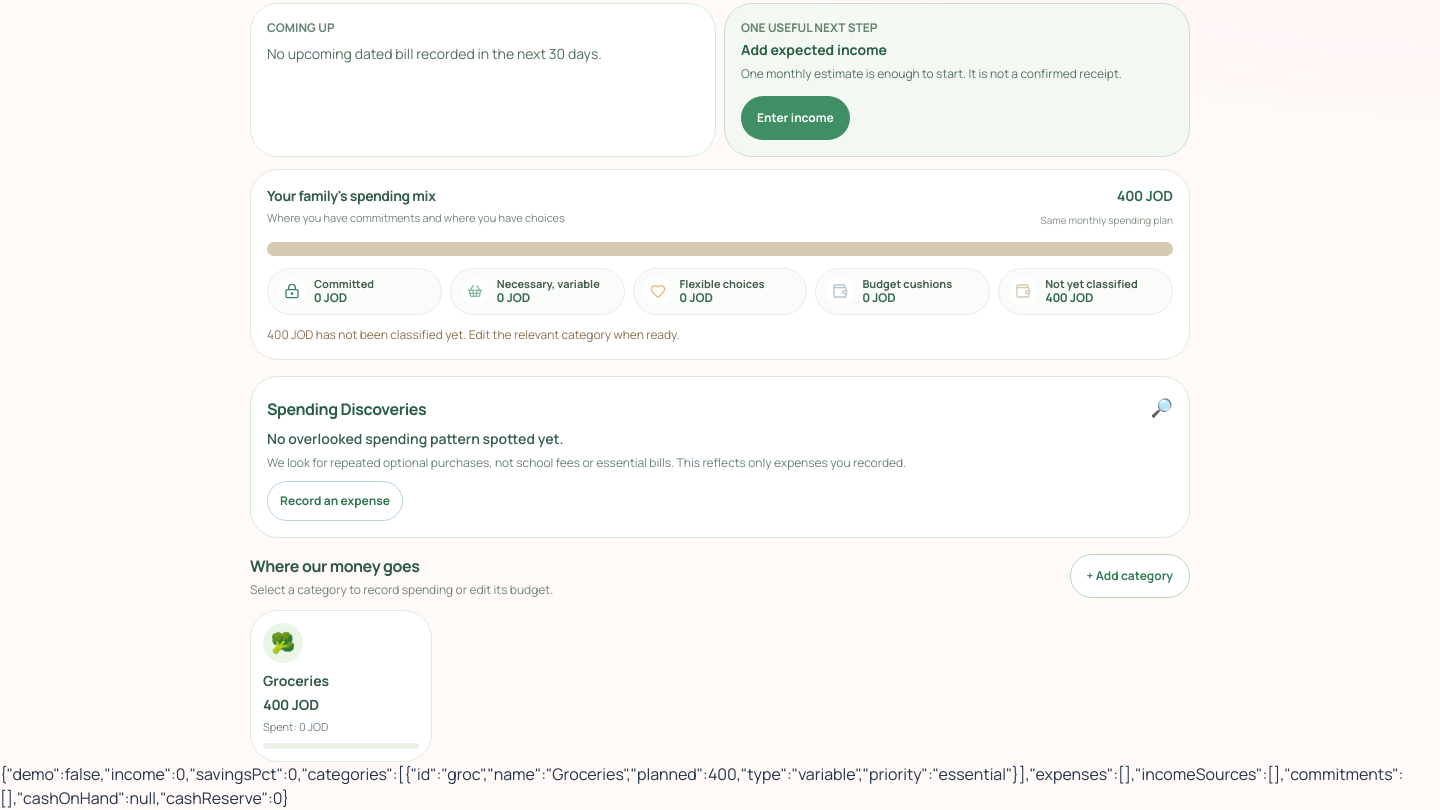
Month-aware guidance embedded in existing illustrated Money Map › uses an existing pictured category card and optional confirmation; no extra tab, bill or paid expense
This screenshot has width=1440, height=810.
(page scrolled)
expect the heading "Where our money goes" is shown: met, box x1=250 y1=555 x2=420 y2=577
Click the button with test id "category-picture-groceries" at {"x": 341, "y": 686}, box x1=250 y1=610 x2=432 y2=762
(page scrolled)
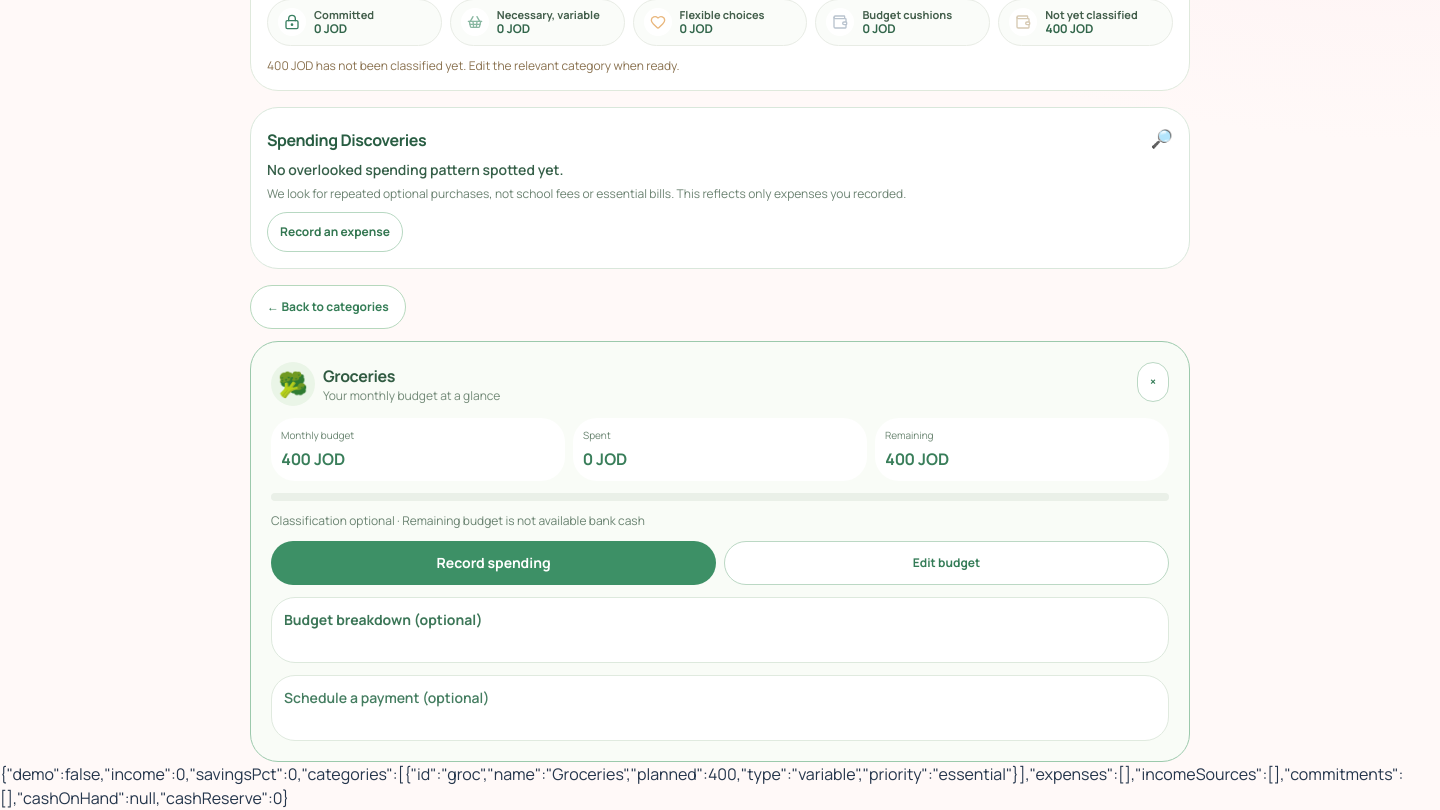
Click the button "Edit budget" at {"x": 946, "y": 563}, box x1=724 y1=541 x2=1169 y2=585
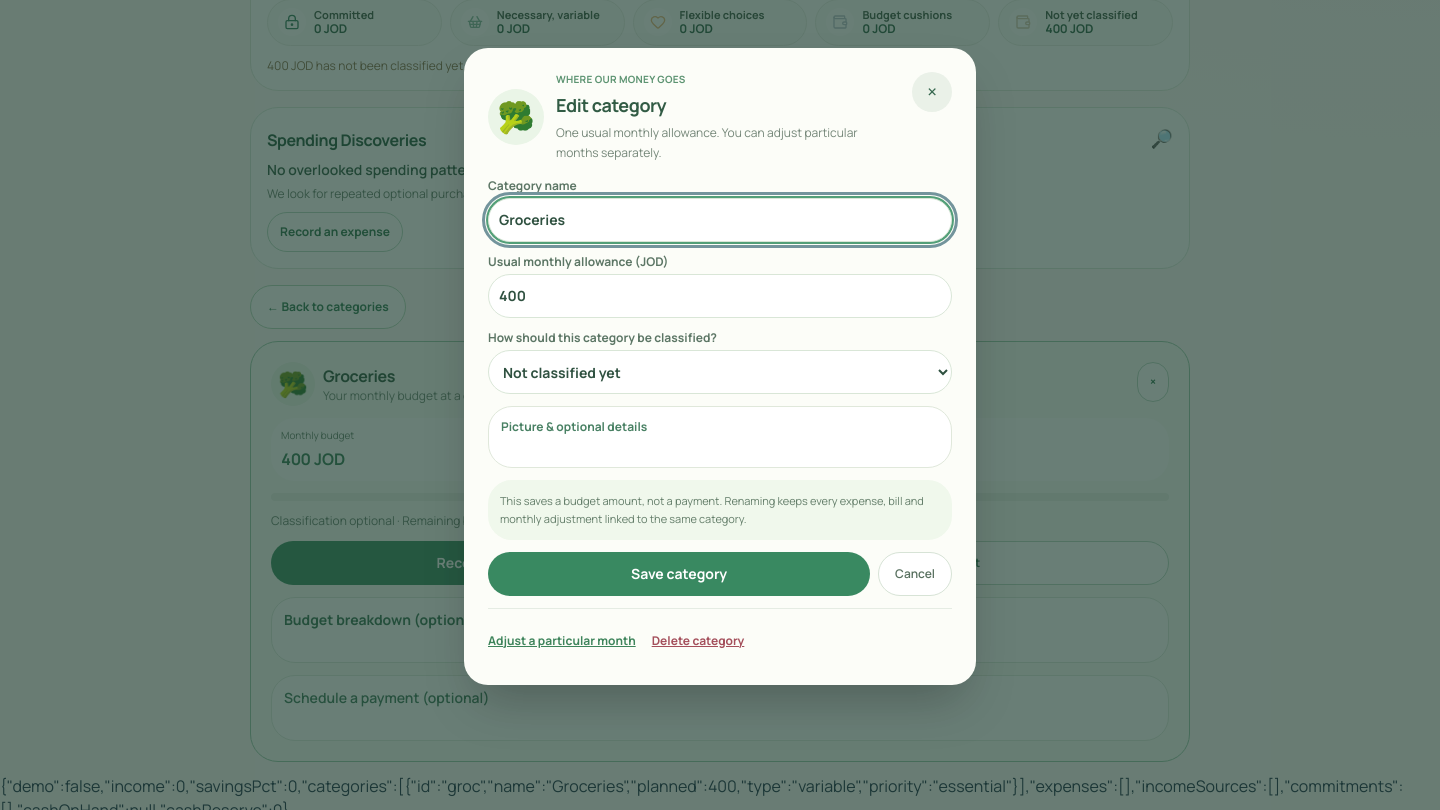
Click the button "Adjust a particular month" at {"x": 562, "y": 641}, box x1=488 y1=621 x2=636 y2=661
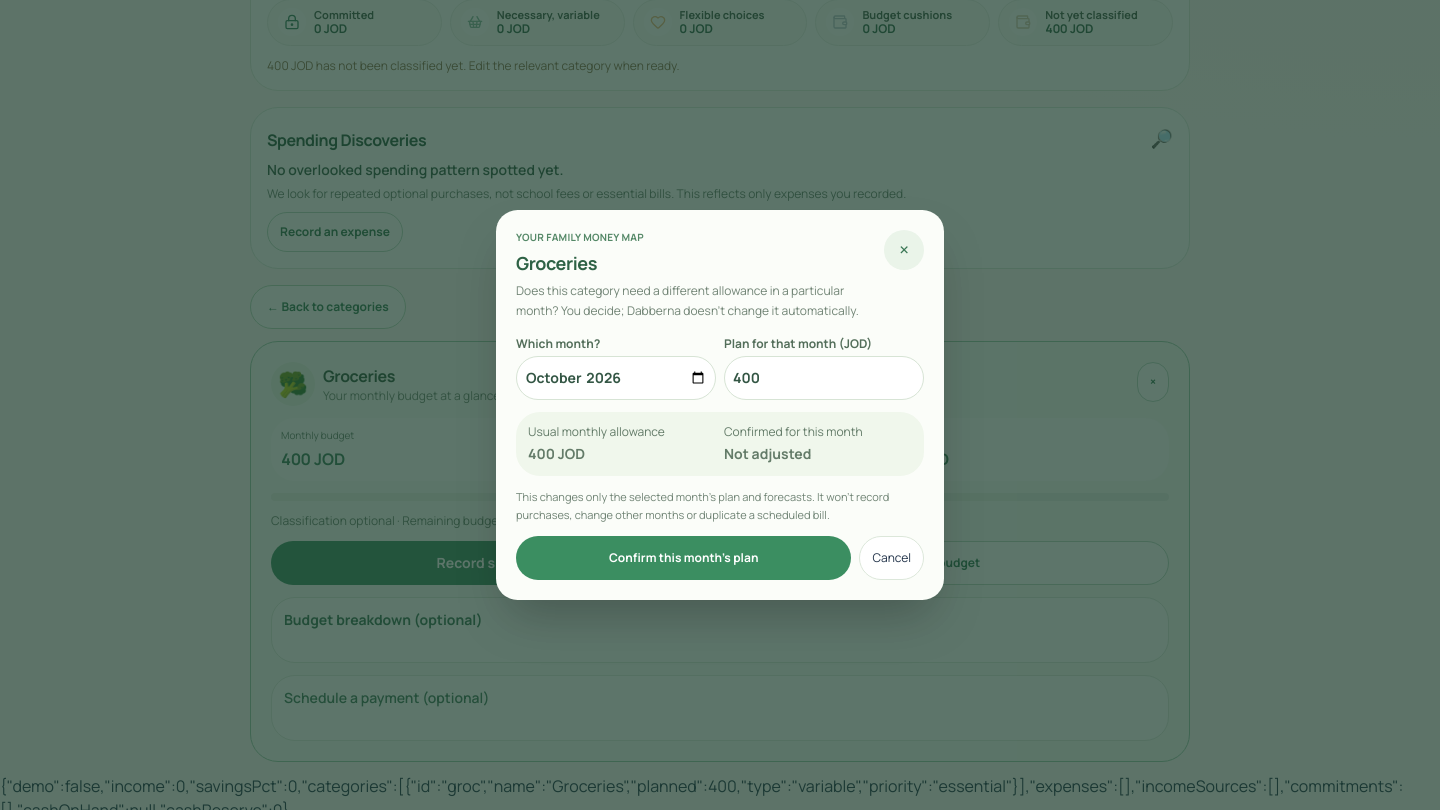
expect the heading "Groceries" is shown: met, box x1=516 y1=251 x2=597 y2=275
Replace the text in the number field labelled "Plan for that month (JOD)" with "550" at {"x": 824, "y": 378}, box x1=724 y1=356 x2=924 y2=400
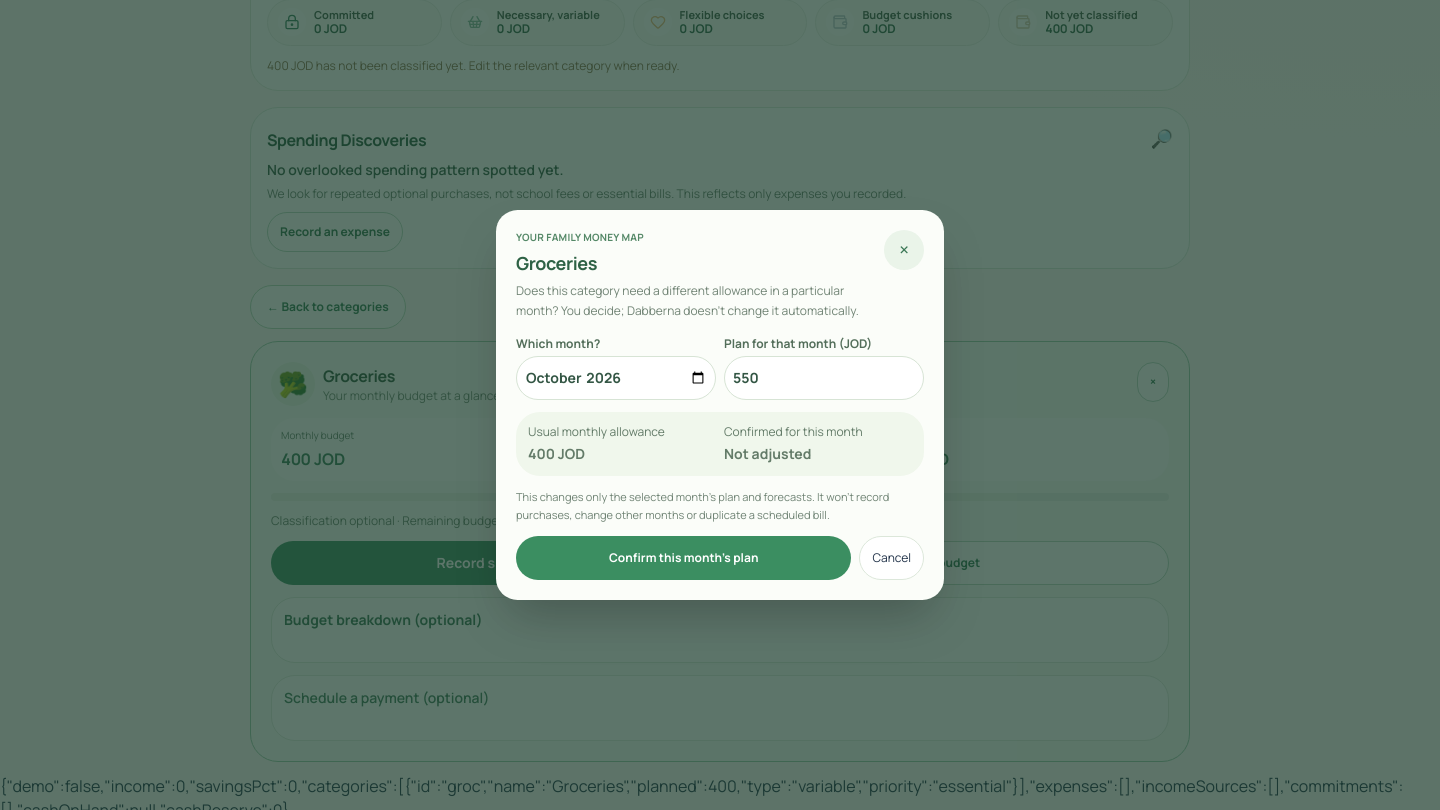
Click the button "Confirm this month's plan" at {"x": 684, "y": 558}, box x1=516 y1=536 x2=851 y2=580
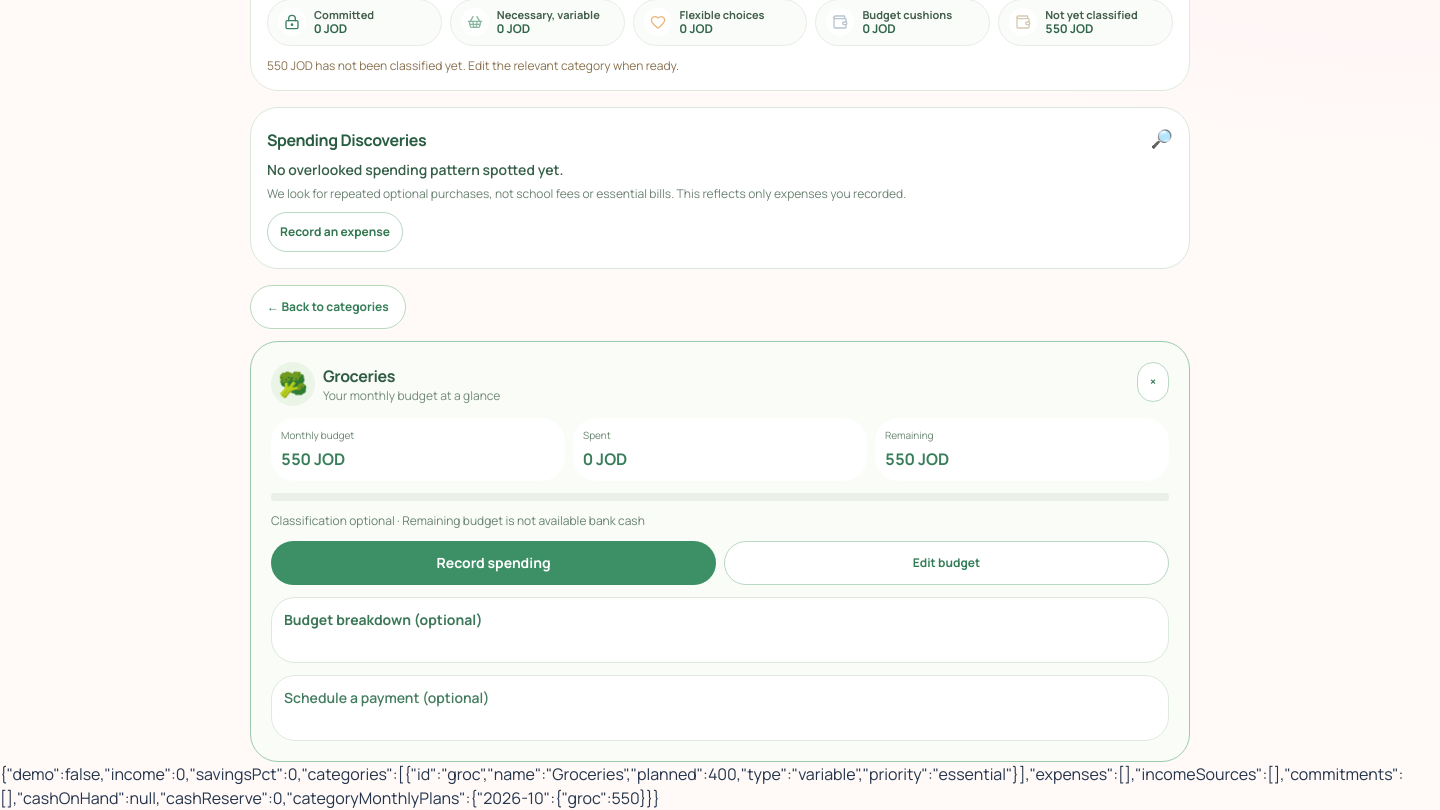
expect the text with test id "finance-json" shows "\"expenses\":[]": met, box x1=0 y1=763 x2=1403 y2=809
expect the dialog is gone: met
Click the button "← Back to categories" at {"x": 328, "y": 307}, box x1=250 y1=285 x2=406 y2=329
(page scrolled)
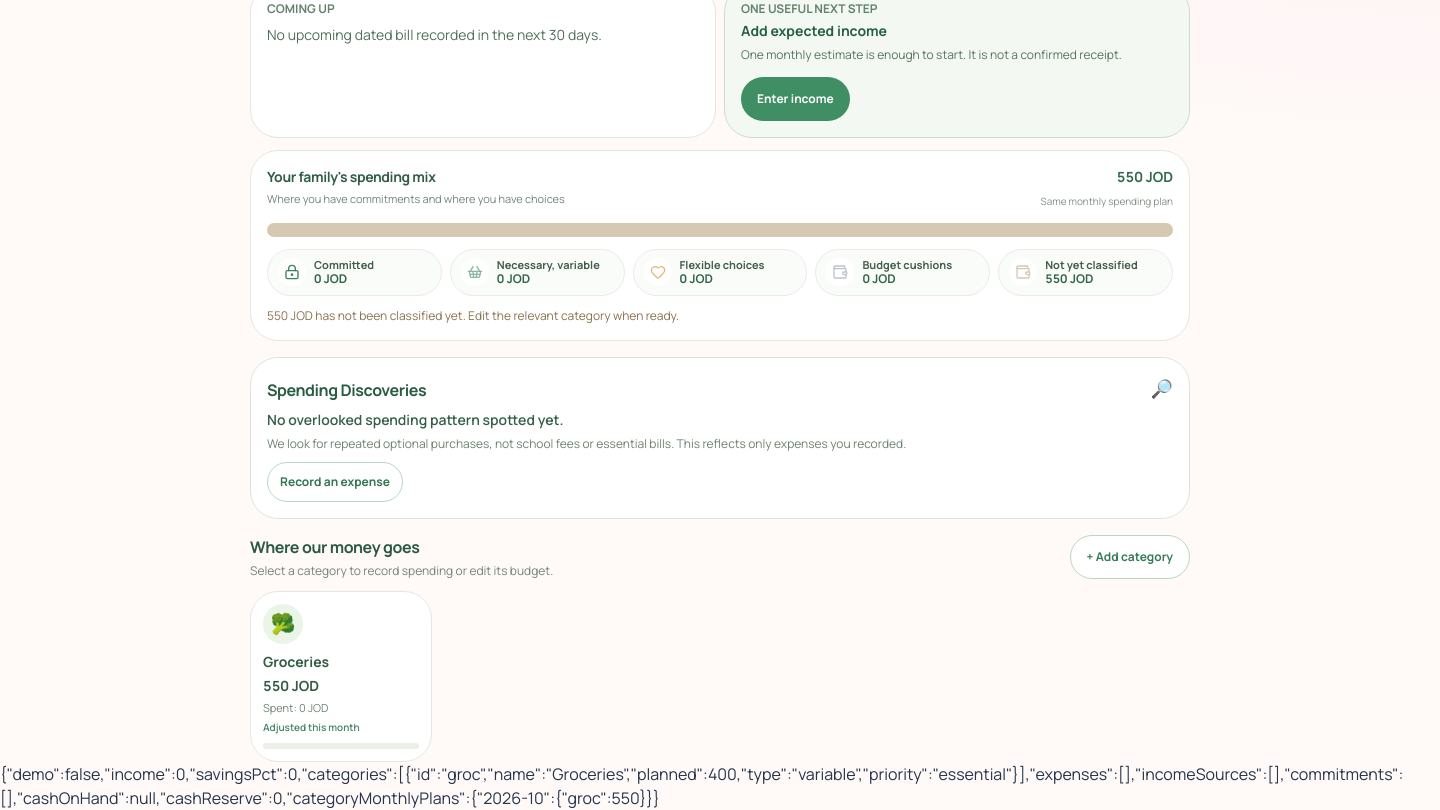
expect the text "Adjusted this month" is shown: met, box x1=263 y1=720 x2=360 y2=734
